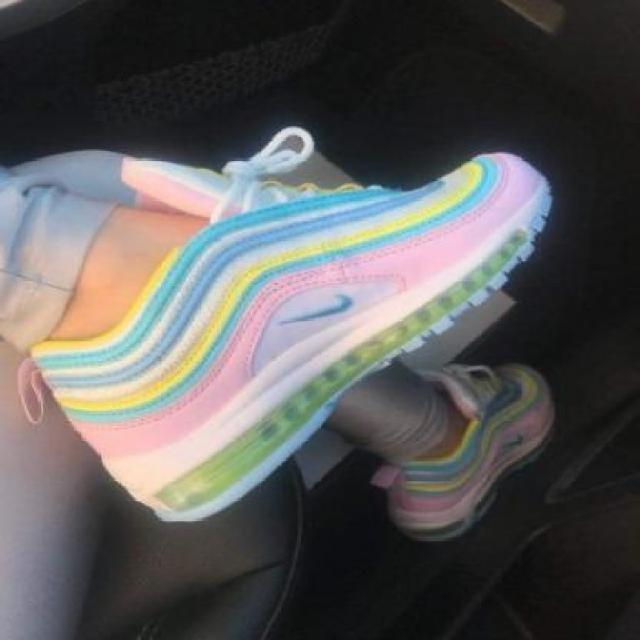Nike: (272, 288, 354, 327)
